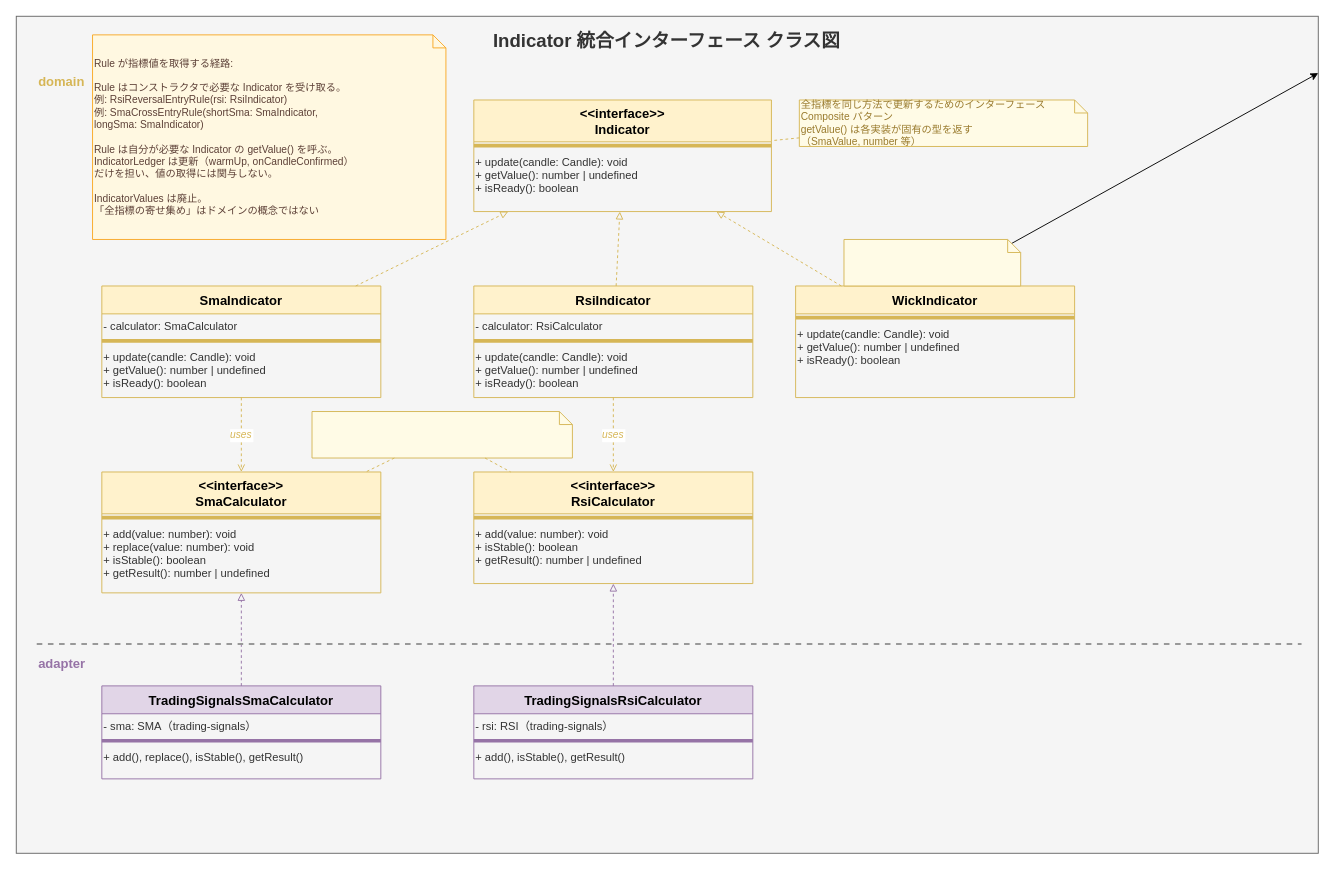
This 1342x870 diagram has some shape labels left out. Each missing label, with the centre of its shape:
"ヒゲの検知は四則演算だけでできるので 外部ライブラリ不要" belongs at pixel 932 262.
"計算方法の抽象 実装は adapter 層の trading-signals が担う" belongs at pixel 441 434.
